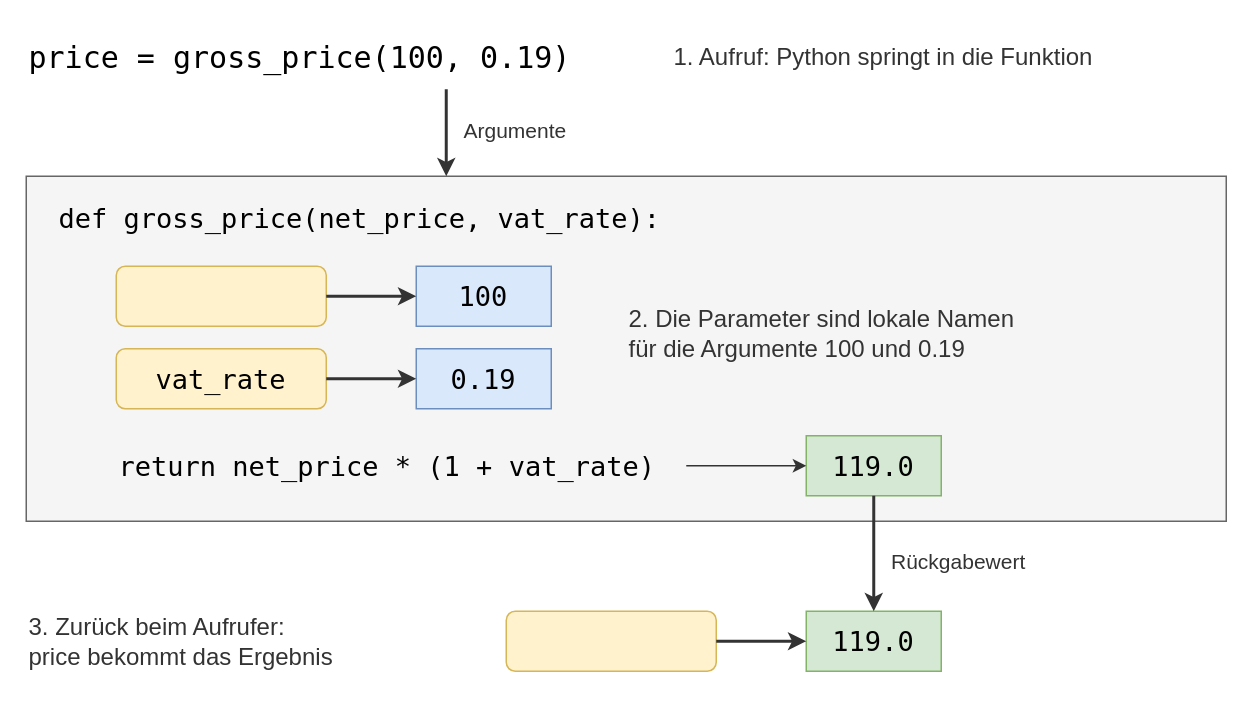
Some shapes in this 1253 by 711 pixel diagram are drawn without their labels. Here are the shapes that lost their labels. From the top down, the centre of each, then its label:
pixel 220 295: net_price
pixel 610 640: price
